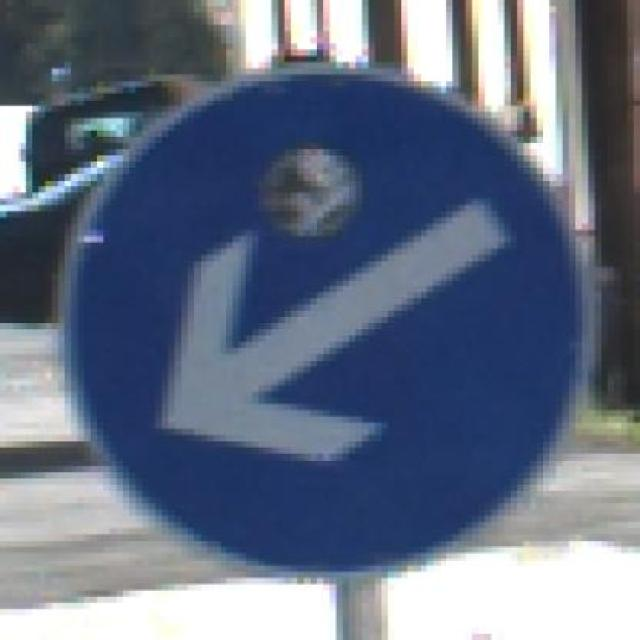Keep-Left: (65, 43, 608, 579)
